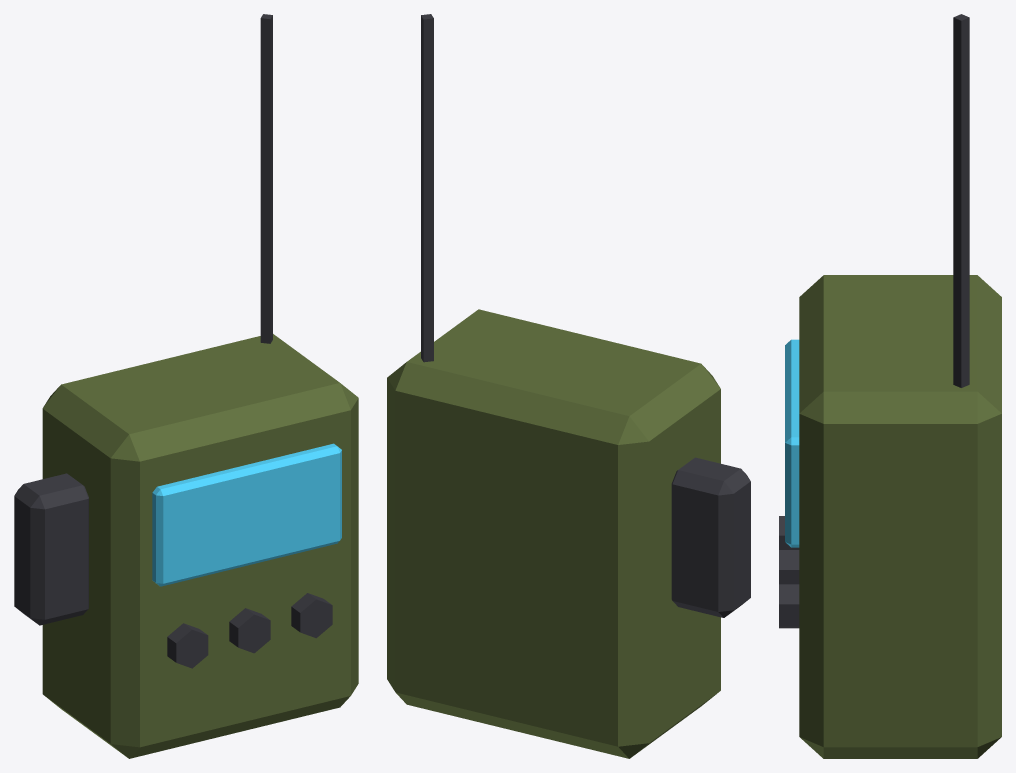
File: FieldRadio.fbx
3 renders of one model, left to right at view 1: azimuth 30°, elevation 25°; view 2: azimuth 150°, elevation 25°; view 3: azimuth 270°, elevation 25°, orthographic. The views are drawn at different scales.
Parts seen in each view (by area): view 1: FieldRadio; view 2: FieldRadio; view 3: FieldRadio.
Boxes of the visible parts, left/top/right/bottom form: FieldRadio: left=14, top=14, right=358, bottom=758; FieldRadio: left=387, top=14, right=750, bottom=758; FieldRadio: left=779, top=14, right=1001, bottom=758.
Size of the model in its own units: 1.95 by 4 by 1.1.
Materials: 1 (1 with a texture image).
